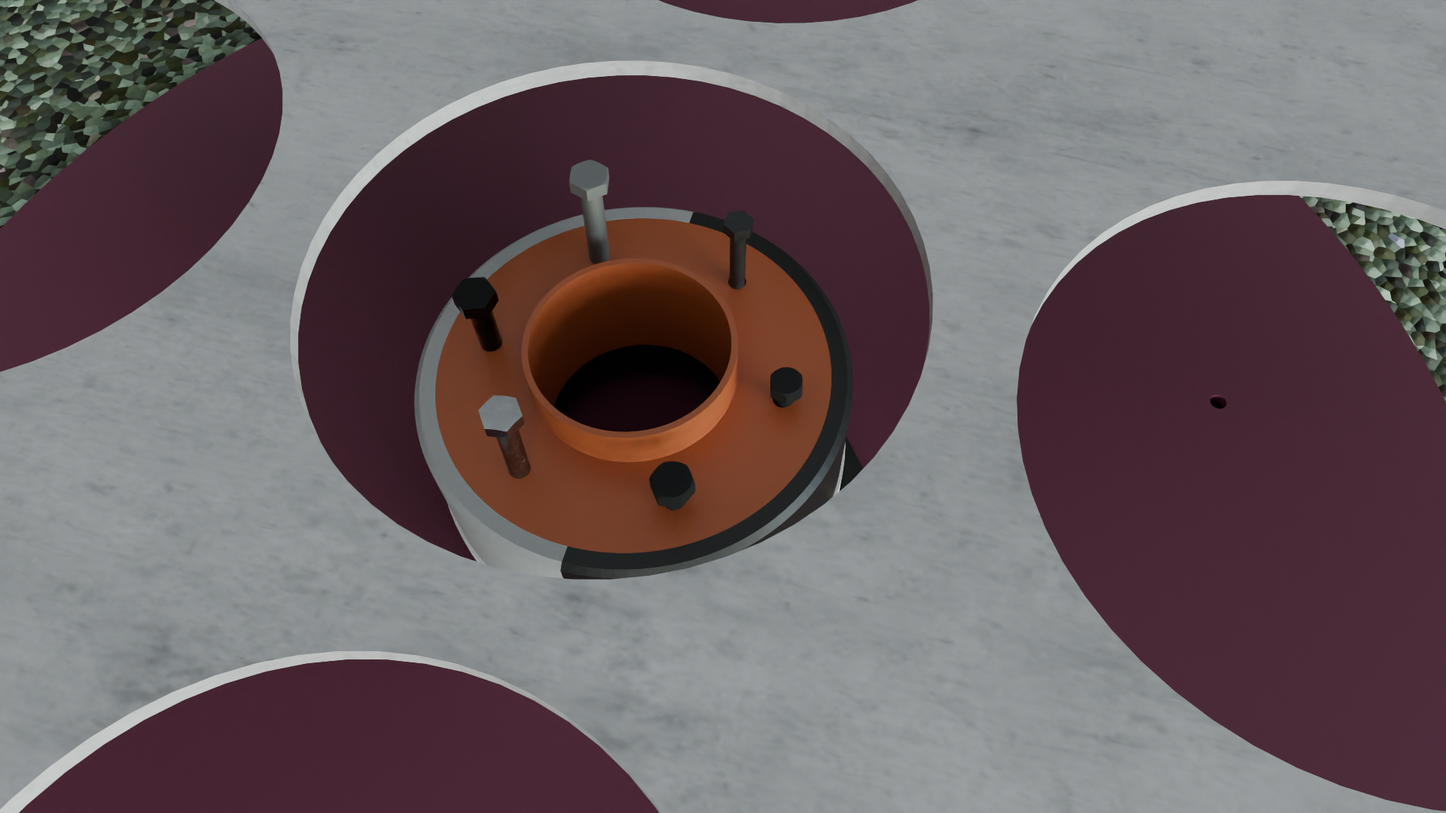bolt: (649, 461, 695, 501), (478, 395, 523, 431), (452, 277, 496, 310), (569, 160, 609, 191), (770, 367, 803, 397), (724, 211, 754, 234)
